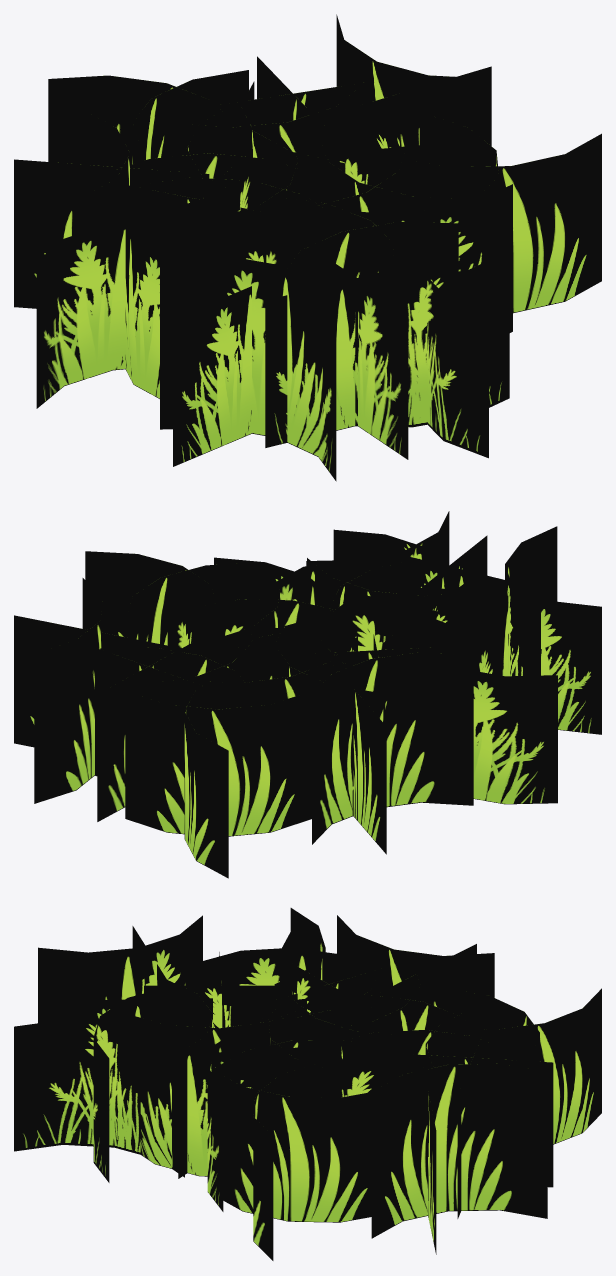
File: Grass_B.FBX
3 renders of one model, top to bottom at view 1: azimuth 30°, elevation 25°; view 2: azimuth 150°, elevation 25°; view 3: azimuth 270°, elevation 25°, orthographic. The views are drawn at different scales.
Visible parts, largest first — view 1: Grass_2_A, Grass_2_C, Grass_2_B, Grass_2_D; view 2: Grass_2_D, Grass_2_C, Grass_2_A, Grass_2_B; view 3: Grass_2_C, Grass_2_B, Grass_2_A, Grass_2_D.
Part boxes in pixels (left/top/right/bottom): Grass_2_A: left=36, top=175, right=512, bottom=481; Grass_2_C: left=101, top=14, right=601, bottom=313; Grass_2_B: left=134, top=109, right=509, bottom=458; Grass_2_D: left=14, top=70, right=471, bottom=308; Grass_2_D: left=125, top=564, right=473, bottom=878; Grass_2_C: left=14, top=551, right=476, bottom=821; Grass_2_A: left=214, top=526, right=601, bottom=804; Grass_2_B: left=167, top=511, right=502, bottom=675; Grass_2_C: left=125, top=975, right=553, bottom=1260; Grass_2_B: left=14, top=927, right=440, bottom=1182; Grass_2_A: left=38, top=908, right=378, bottom=1211; Grass_2_D: left=214, top=915, right=601, bottom=1144.
Bounding box in the file's own units: 633 × 189 × 686.
